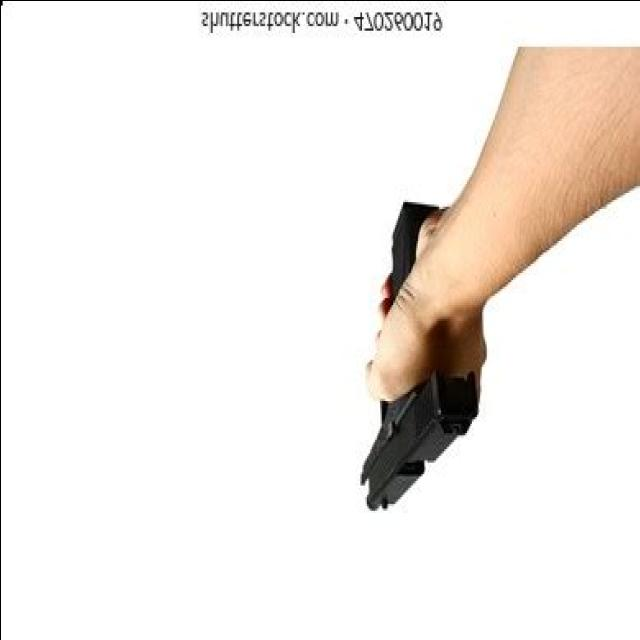weapons: (335, 170, 500, 540)
